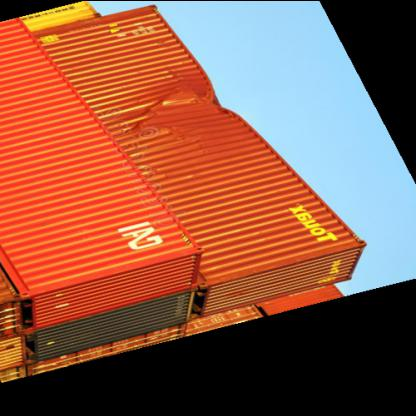Damage: (151, 64, 231, 138)
